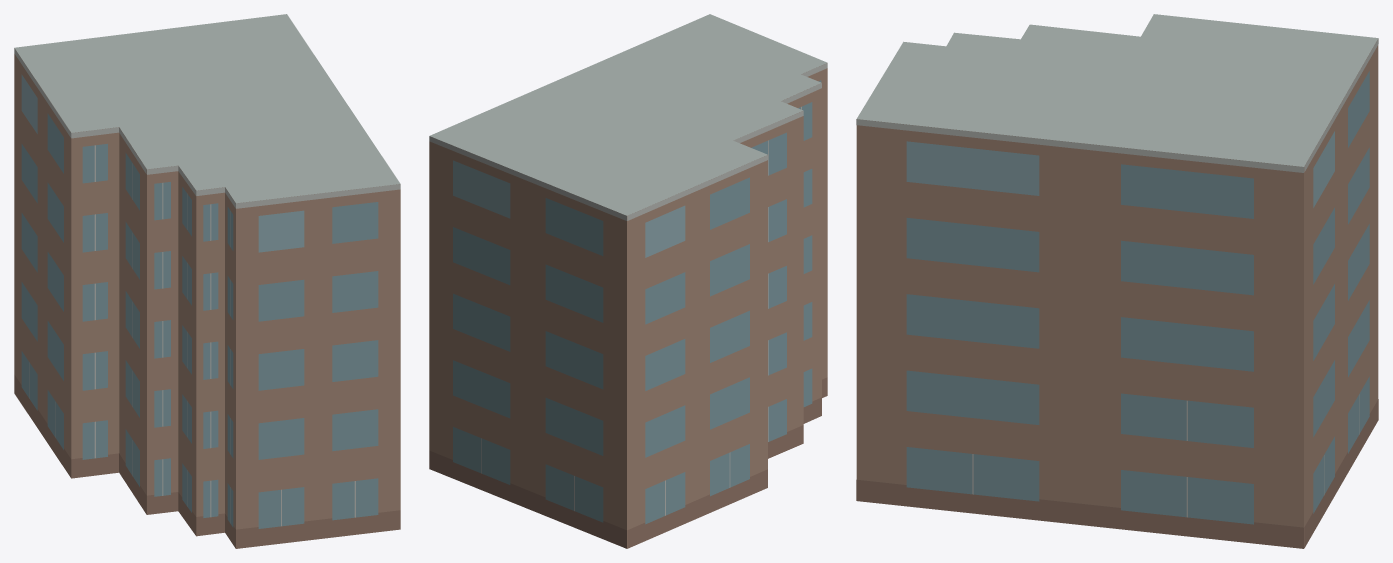
Rendered from survey-upis-32606420.glb.
The picture shows the model from 3 angles, left to right: view 1: azimuth 30°, elevation 25°; view 2: azimuth 150°, elevation 25°; view 3: azimuth 270°, elevation 25°; orthographic projection. The views are drawn at different scales.
Parts seen in each view (by area): view 1: survey-upis-32606420.tmp; view 2: survey-upis-32606420.tmp; view 3: survey-upis-32606420.tmp.
Part boxes in pixels (bbox=[...]): survey-upis-32606420.tmp: bbox=[14, 14, 400, 548]; survey-upis-32606420.tmp: bbox=[429, 14, 827, 548]; survey-upis-32606420.tmp: bbox=[856, 14, 1378, 548].
Bounding box in the file's own units: 13.11 × 15.25 × 18.9.
